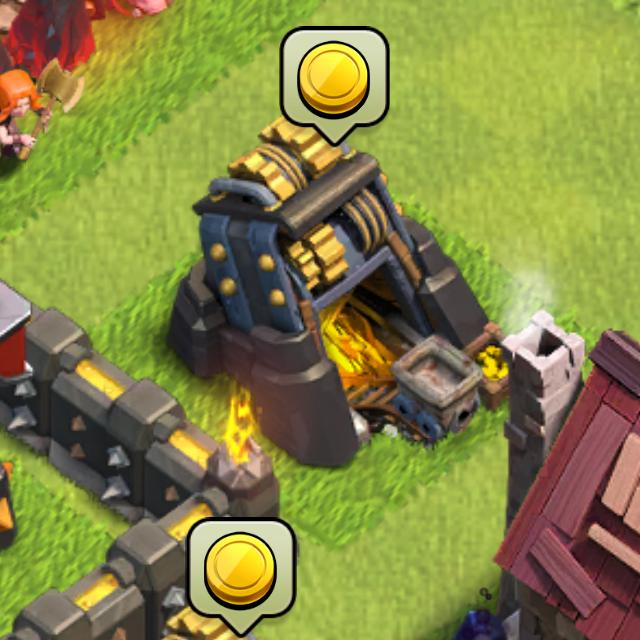coin: (185, 515, 295, 636), (280, 26, 388, 146)
